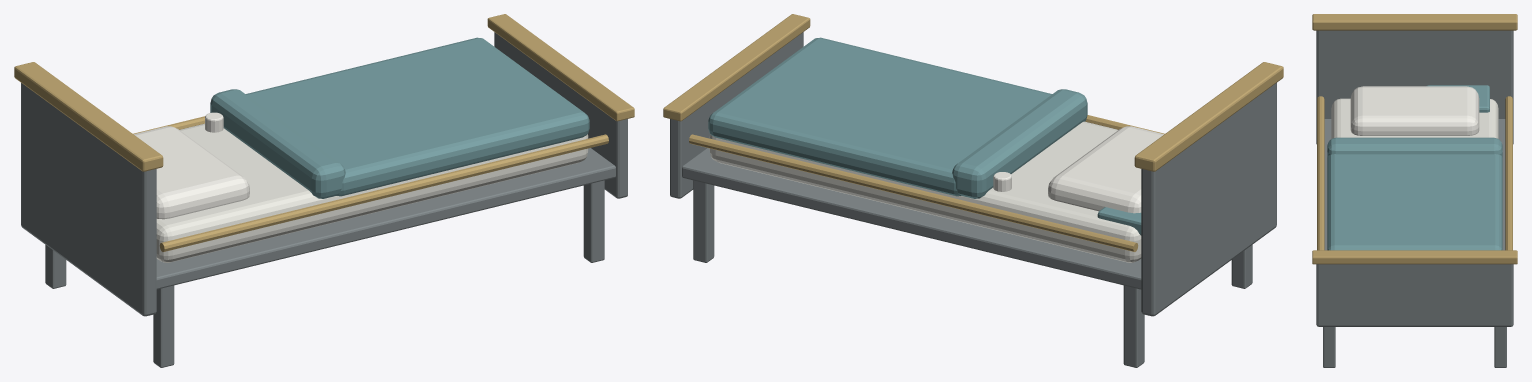
File: bed.glb
3 renders of one model, left to right at view 1: azimuth 30°, elevation 25°; view 2: azimuth 150°, elevation 25°; view 3: azimuth 270°, elevation 25°, orthographic. The views are drawn at different scales.
Visible parts, largest first — view 1: bed; view 2: bed; view 3: bed.
Boxes of the visible parts, x1,y1,x2,y2 form: bed: (14,14,634,367); bed: (663,14,1283,367); bed: (1312,14,1517,367).
Size of the model in its own units: 2.1 by 0.895 by 0.96.
